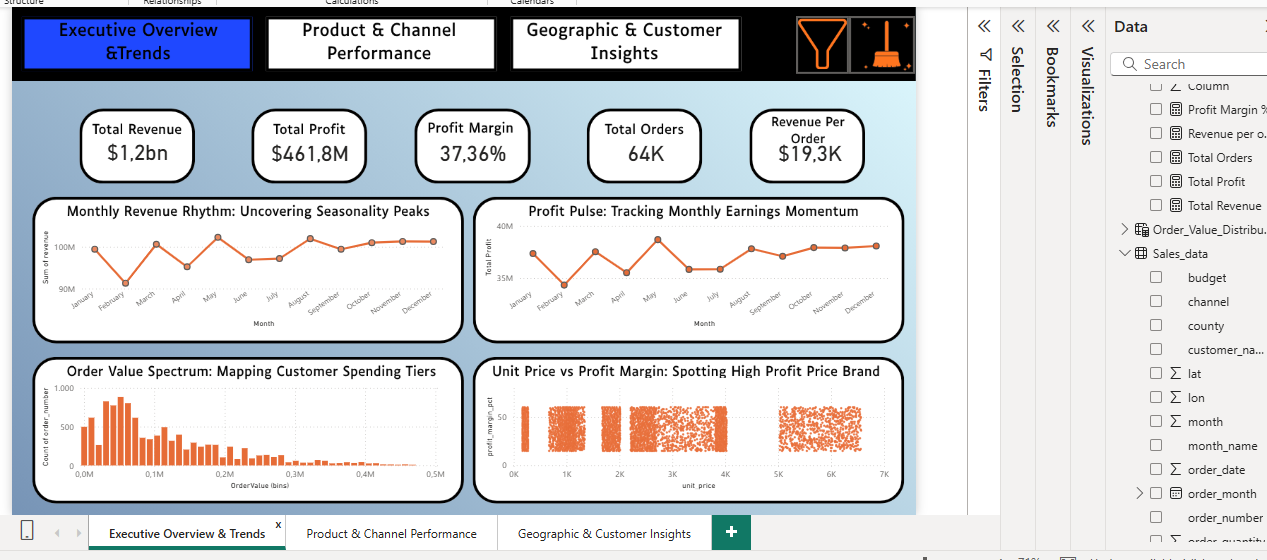

The page's visual inventory and layout, read from the dashboard file:
{"tool":"powerbi","page":{"name":"Executive Overview & Trends","canvas":[1280,720],"ordinal":0},"visuals":[{"type":"card","fields":{"Values":["Sum(Sheet1.revenue)"]},"box":[107.7,171.5,140.3,66.6],"z":0},{"type":"card","fields":{"Values":["Sum(Sheet1.profit)"]},"box":[351.1,171.3,141.1,67.2],"z":1000},{"type":"card","fields":{"Values":["measures_.Profit Margin %"]},"box":[582.9,171.3,141.1,67.2],"z":2000},{"type":"card","fields":{"Values":["CountNonNull(Sheet1.order_number)"]},"box":[828.1,171.3,141.1,67.2],"z":3000},{"type":"card","fields":{"Values":["measures_.Revenue per order"]},"box":[1059.7,171.2,141.4,67],"z":4000},{"type":"lineChart","fields":{"Category":["Sales_data.order_month.Variation.Date Hierarchy.Month"],"Y":["Sum(Sales_data.revenue)"]},"box":[37,295.6,582.9,162.9],"z":5000},{"type":"lineChart","fields":{"Category":["Sales_data.order_month.Variation.Date Hierarchy.Month"],"Y":["measures_.Total Profit"]},"box":[665.2,295.6,582.9,162.9],"z":6000},{"type":"columnChart","fields":{"Category":["Order_Value_Distribution.OrderValue (bins)"],"Y":["CountNonNull(Order_Value_Distribution.order_number)"]},"box":[37,525.8,582.9,162.9],"z":7000},{"type":"actionButton","box":[1111.2,12.8,75.1,82.2],"z":8000},{"type":"actionButton","box":[1186.3,12.8,93.5,82.2],"z":10000},{"type":"actionButton","box":[364.5,13.4,317.5,70.6],"z":11000},{"type":"actionButton","box":[708.9,18.5,317.5,70.6],"z":12000},{"type":"scatterChart","fields":{"X":["Sales_data.unit_price"],"Y":["Sales_data.profit_margin_pct"]},"box":[665.6,526,581.8,162.9],"z":13000}]}

Visuals, with their boxes on the page's 1280x720 design canvas (x1, y1, x2, y2). These are canvas units, not pixel positions in the 1267x560 screenshot, which may show the page scaled, cropped or inside an application window:
card - Sum(Sheet1.revenue): 108/172/248/238
card - Sum(Sheet1.profit): 351/171/492/238
card - measures_.Profit Margin %: 583/171/724/238
card - CountNonNull(Sheet1.order_number): 828/171/969/238
card - measures_.Revenue per order: 1060/171/1201/238
lineChart - Sales_data.order_month.Variation.Date Hierarchy.Month x Sum(Sales_data.revenue): 37/296/620/458
lineChart - Sales_data.order_month.Variation.Date Hierarchy.Month x measures_.Total Profit: 665/296/1248/458
columnChart - Order_Value_Distribution.OrderValue (bins) x CountNonNull(Order_Value_Distribution.order_number): 37/526/620/689
actionButton: 1111/13/1186/95
actionButton: 1186/13/1280/95
actionButton: 364/13/682/84
actionButton: 709/18/1026/89
scatterChart - Sales_data.unit_price x Sales_data.profit_margin_pct: 666/526/1247/689
